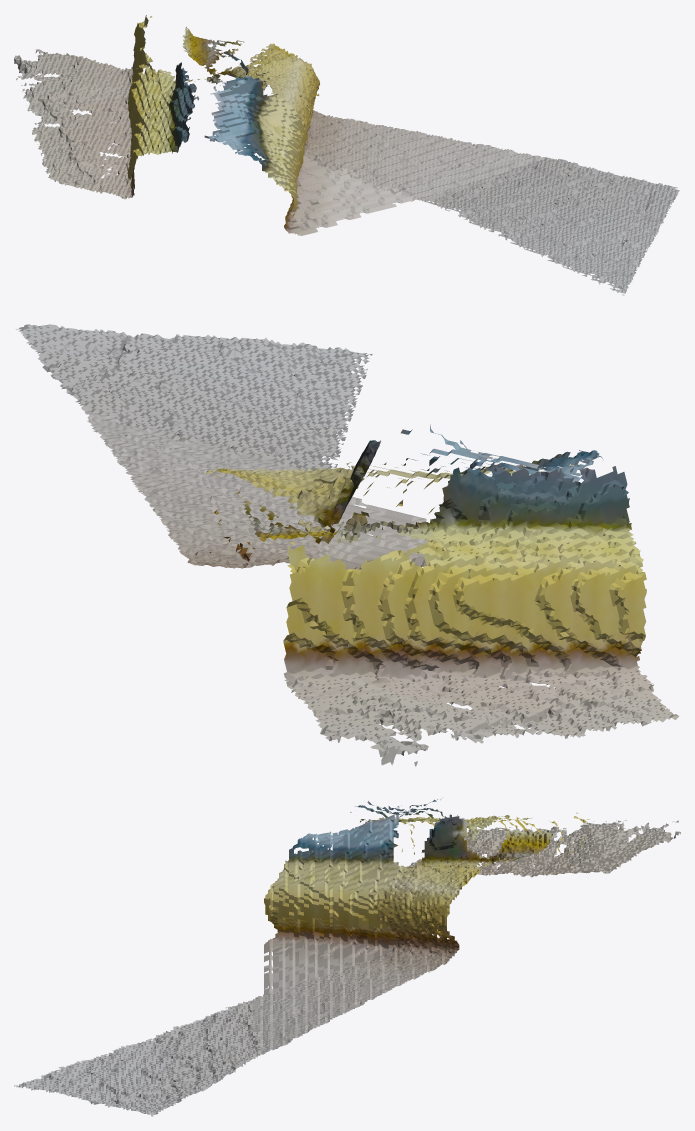
The model's file is mesh_cam0_frame000003.glb.
3 renders of one model, top to bottom at view 1: azimuth 30°, elevation 25°; view 2: azimuth 150°, elevation 25°; view 3: azimuth 270°, elevation 25°, orthographic. The views are drawn at different scales.
Parts seen in each view (by area): view 1: world; view 2: world; view 3: world.
Part boxes in pixels (box(x1,y1,x2,y2)): world: box(14, 15, 679, 295); world: box(16, 324, 679, 766); world: box(14, 799, 680, 1116).
Bounding box in the file's own units: 0.124 × 0.0361 × 0.134.
